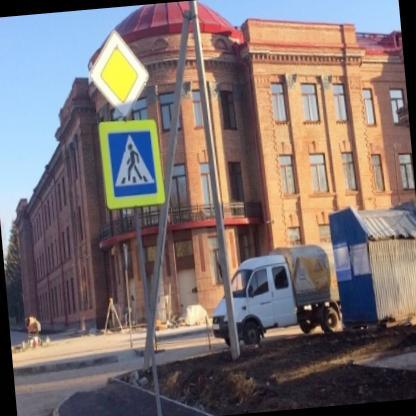road_sign: (99, 121, 164, 209), (89, 30, 148, 116)
